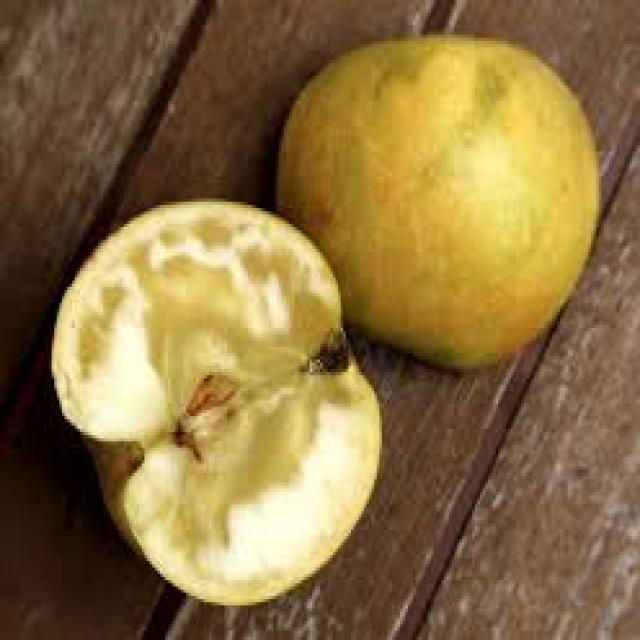organic waste: (44, 195, 379, 606), (268, 28, 599, 369)
